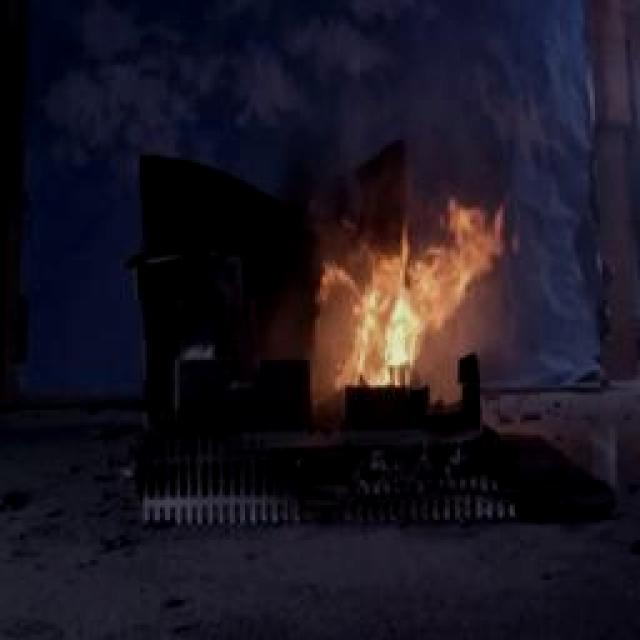fire: (308, 164, 518, 394)
